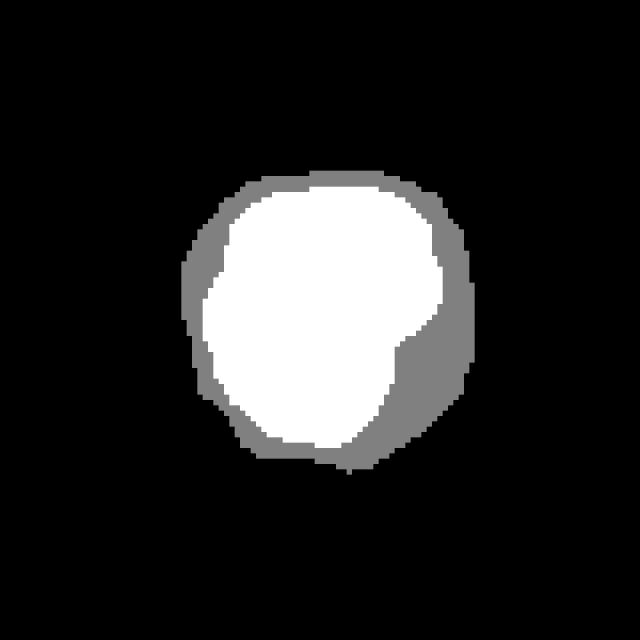WBC: (154, 149, 490, 507)
